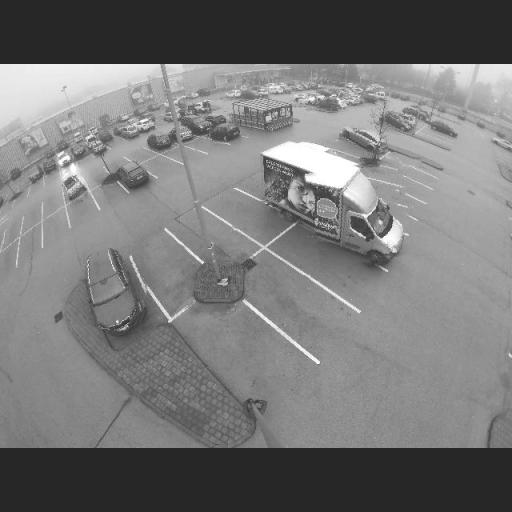busy: (309, 161, 413, 266), (76, 244, 150, 332), (340, 127, 386, 153), (117, 160, 150, 188), (298, 90, 338, 113), (210, 122, 243, 145), (384, 112, 416, 133), (62, 173, 88, 198), (148, 130, 176, 150), (118, 124, 143, 142), (172, 123, 194, 143), (338, 92, 364, 108), (404, 105, 428, 119), (57, 150, 74, 167), (29, 166, 46, 182), (42, 158, 59, 174), (71, 142, 87, 157), (140, 118, 158, 130)
free: (217, 333, 276, 379), (259, 276, 311, 314), (146, 246, 186, 279), (230, 202, 268, 228), (304, 246, 338, 274), (196, 226, 232, 252), (20, 232, 40, 252), (44, 218, 66, 235), (70, 201, 92, 218), (150, 160, 173, 176), (0, 253, 18, 272), (24, 210, 42, 228), (286, 104, 308, 118), (382, 188, 399, 206), (45, 195, 64, 211), (89, 167, 108, 182), (392, 176, 411, 190), (99, 186, 120, 198), (402, 157, 422, 169), (2, 230, 19, 244), (194, 138, 212, 150), (175, 151, 193, 163), (398, 164, 413, 175), (131, 150, 147, 158)
